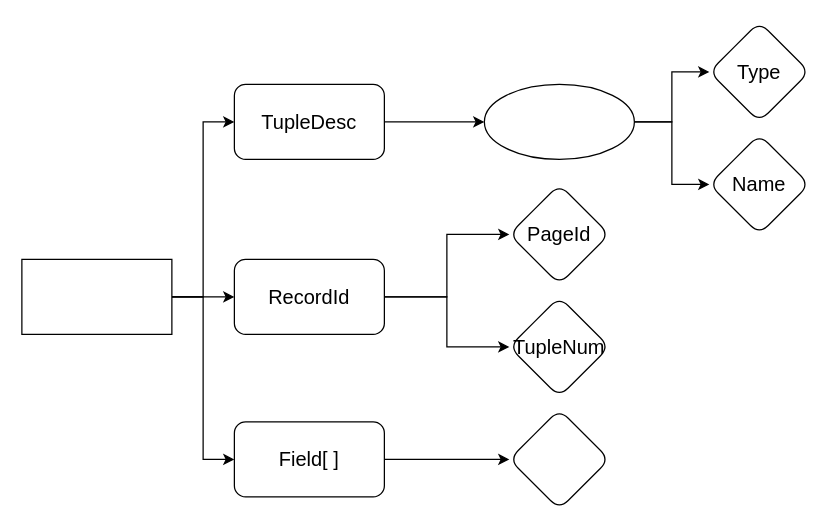
The diagram is 831 pixels wide and 531 high, and some of its shapes have lost their labels. The shapes that lost their labels are listed below. From the top down, each one's box as (x1, y1, x2, y2) in pixels, then its label:
(483, 83, 634, 159): TDItem
(21, 258, 172, 334): Tuple
(508, 408, 609, 509): String/Int
